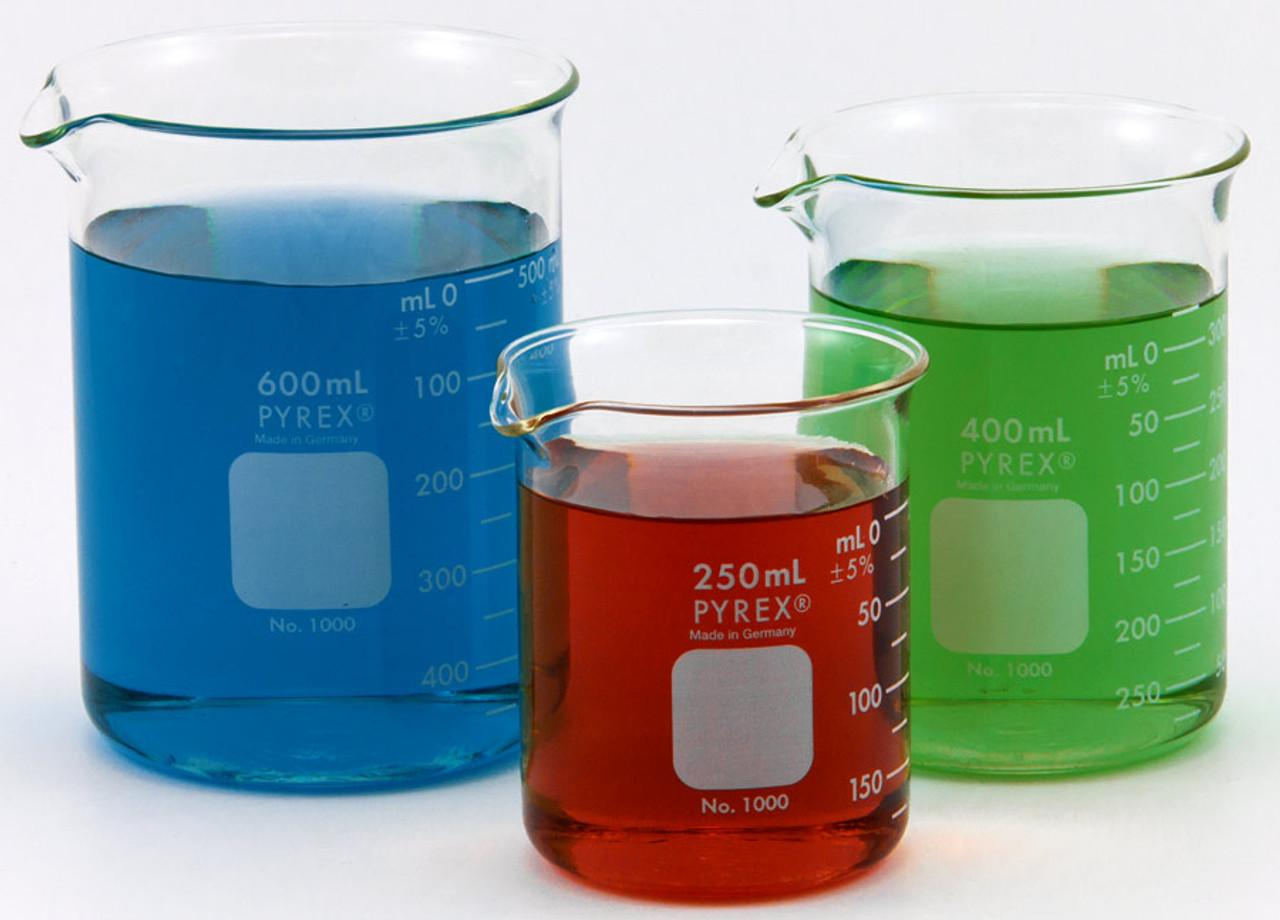Beaker: (484, 306, 934, 903)
